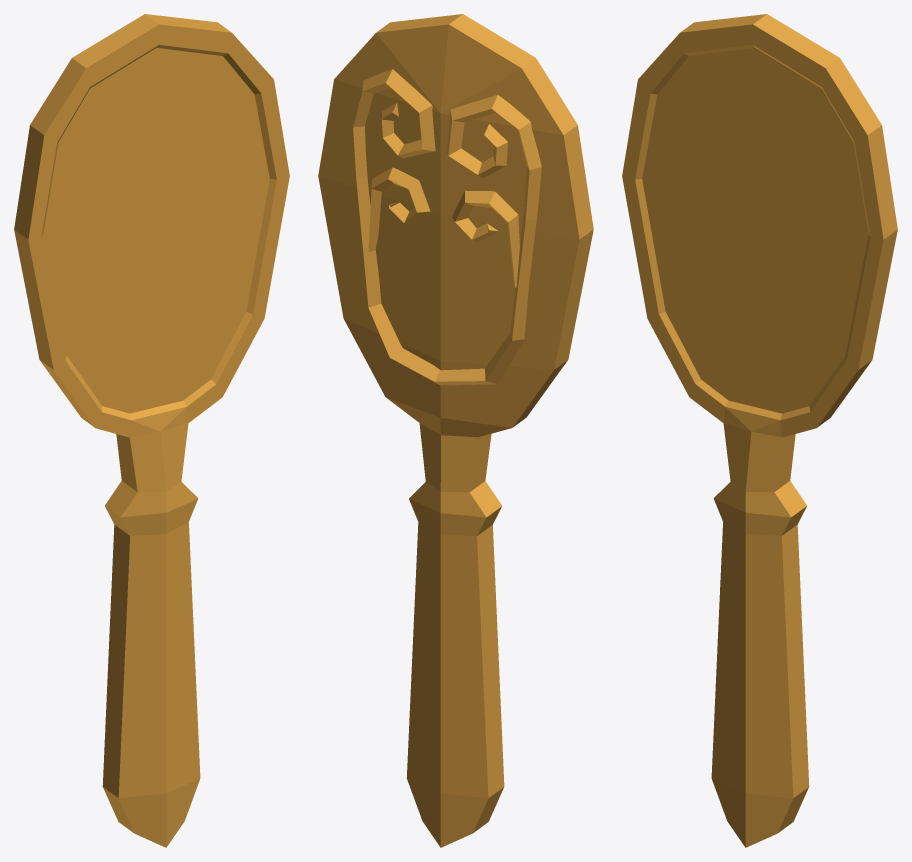
The model's file is SM_Mirror_Handheld_Victorian.fbx.
3 renders of one model, left to right at view 1: azimuth 30°, elevation 25°; view 2: azimuth 150°, elevation 25°; view 3: azimuth 330°, elevation 25°, orthographic.
Parts seen in each view (by area): view 1: mirror-handheld-victorian; view 2: mirror-handheld-victorian; view 3: mirror-handheld-victorian.
Part boxes in pixels (<box>): mirror-handheld-victorian: <box>14,14,289,847</box>; mirror-handheld-victorian: <box>318,14,593,847</box>; mirror-handheld-victorian: <box>622,14,897,847</box>.
Bounding box in the file's own units: 0.111 × 0.3318 × 0.0259.
